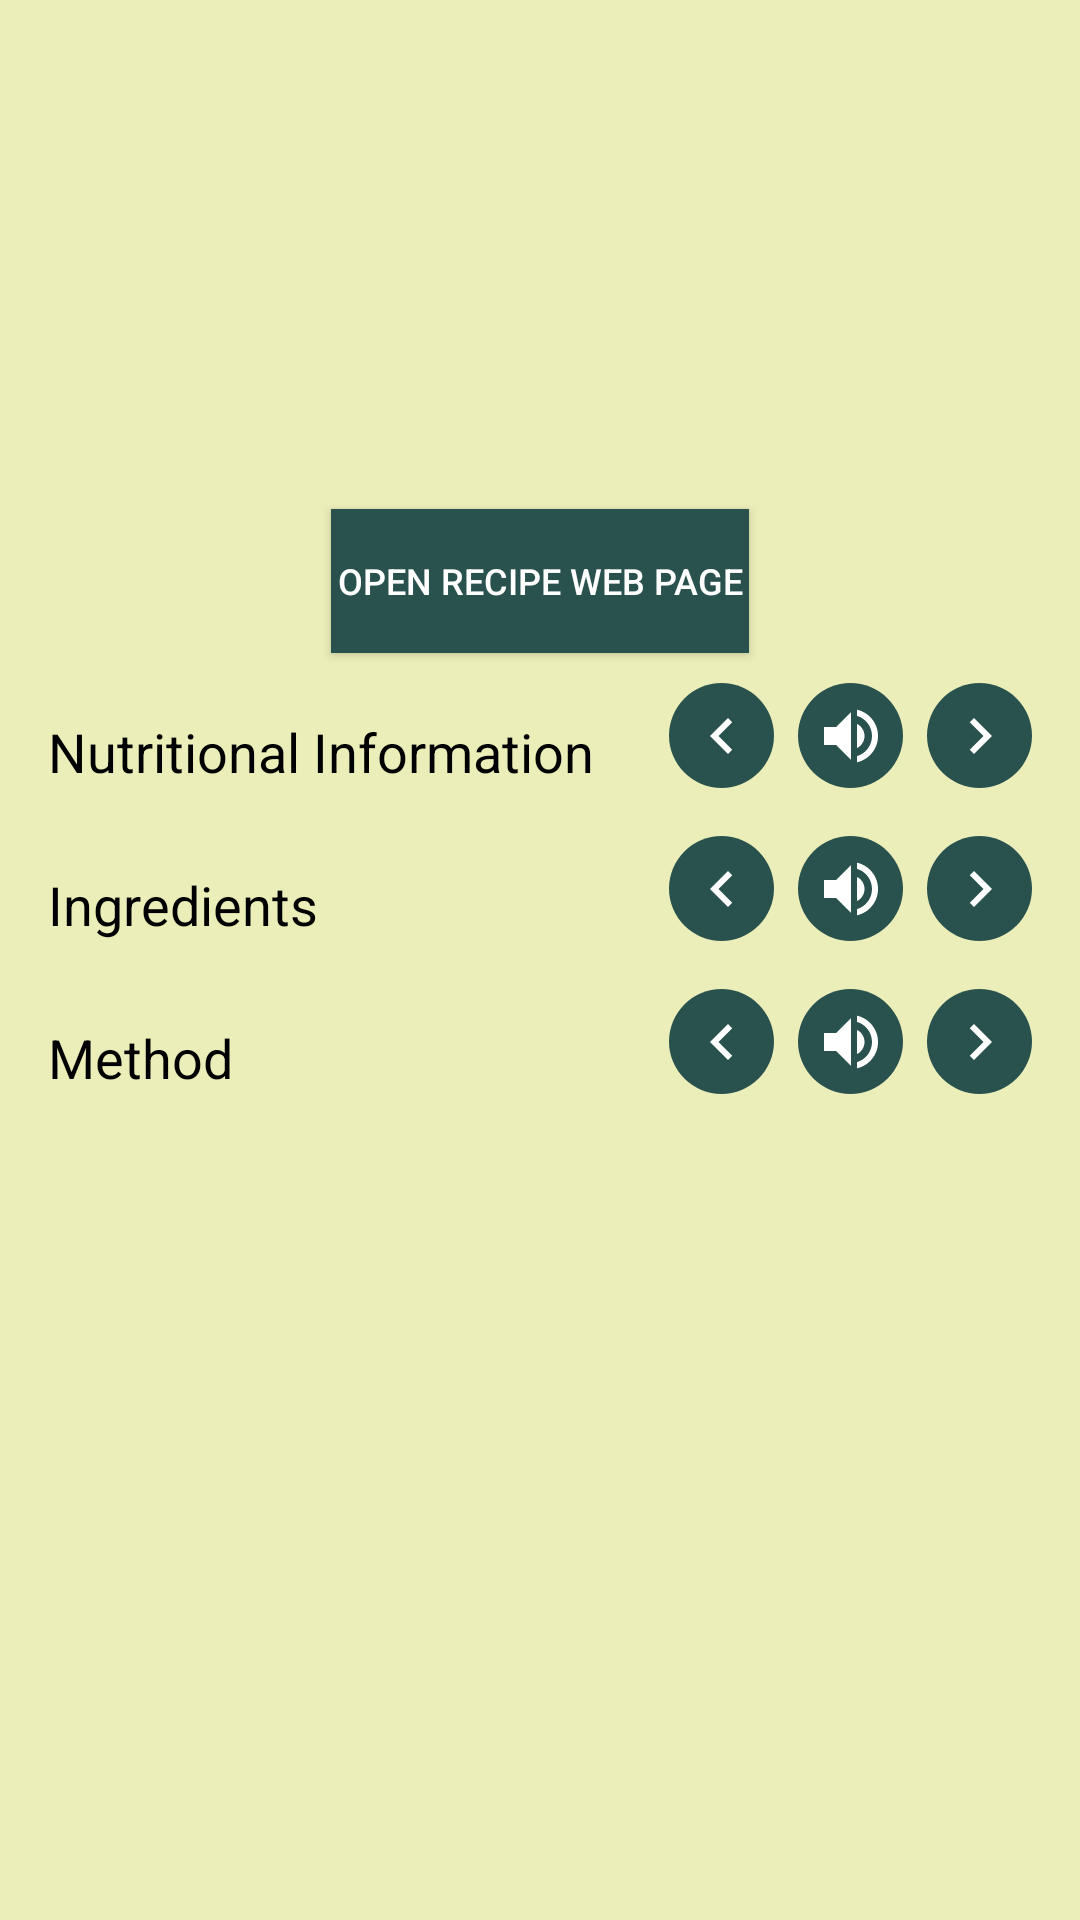

Icon click points for this 1080w x 1920h phone screenshot, format (x,y):
back: (721,735), (721,888), (721,1041)
next: (979,735), (979,888), (979,1041)
speak: (850,735), (850,888), (850,1041)
